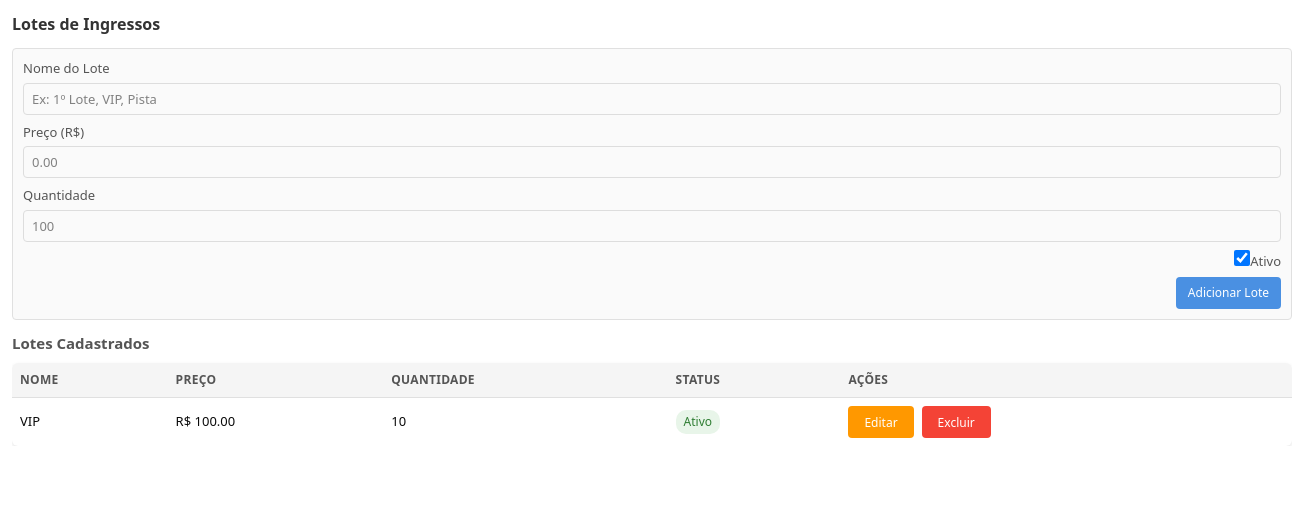
Test case: TicketLotManager › quando DELETE falha, mostra erro
This screenshot has width=1292, height=506.
Expected: the text "VIP" is shown, [12,397,168,446]
Expected: the button "Adicionar Lote" is enabled, [1176,277,1281,309]
Click the button "Excluir" at [956, 422], box [922,406,991,438]
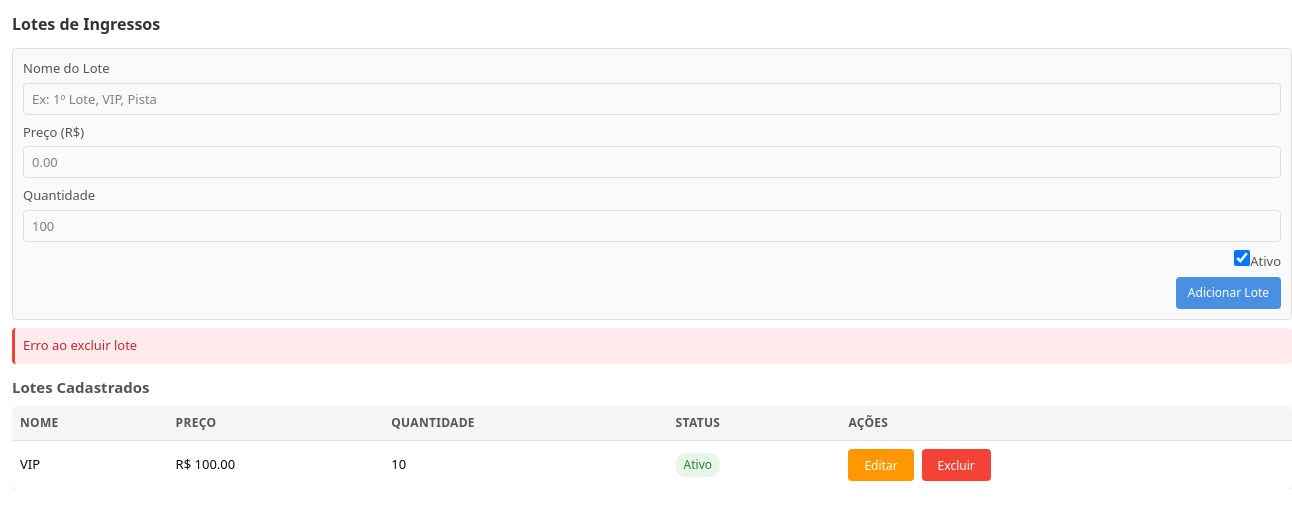
Expected: the text "VIP" is shown, [12,440,168,489]
Expected: the text "Erro ao excluir lote" is shown, [12,328,1291,364]
